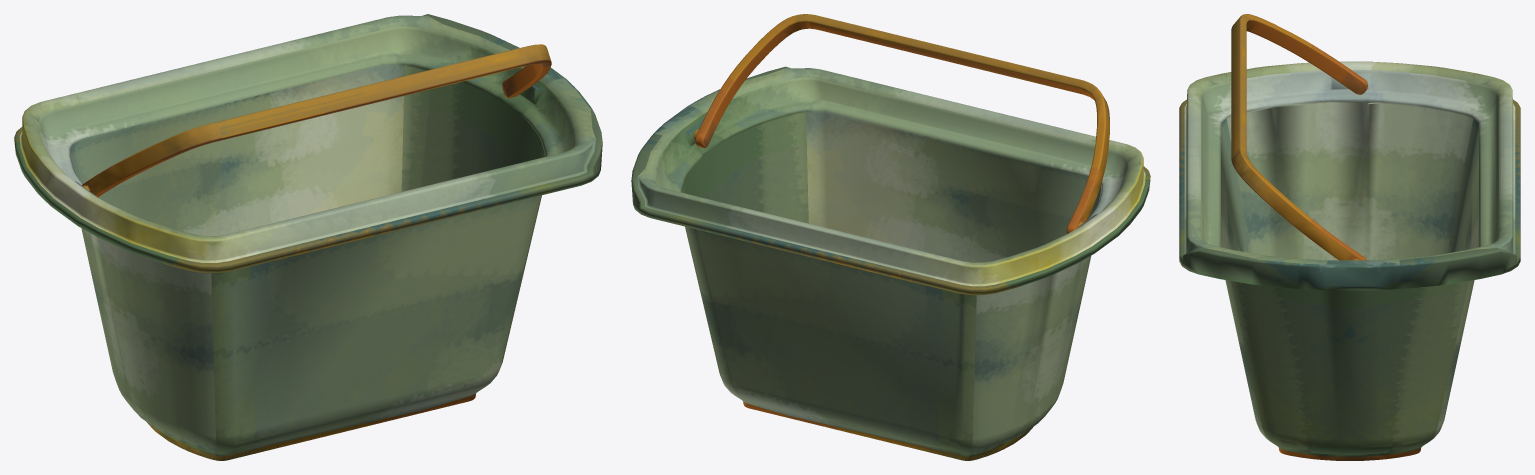
File: LO_basket.glb
3 views of the same model, side by side, from view 1: azimuth 30°, elevation 25°; view 2: azimuth 150°, elevation 25°; view 3: azimuth 270°, elevation 25° (orthographic). The views are drawn at different scales.
Parts seen in each view (by area): view 1: grren; view 2: grren; view 3: grren.
Part boxes in pixels (left/top/right/bottom): grren: left=14, top=14, right=602, bottom=460; grren: left=631, top=14, right=1150, bottom=460; grren: left=1179, top=14, right=1520, bottom=460.
Bounding box in the file's own units: 0.5167 × 0.3664 × 0.3603.
Materials: 1 (1 with a texture image).
